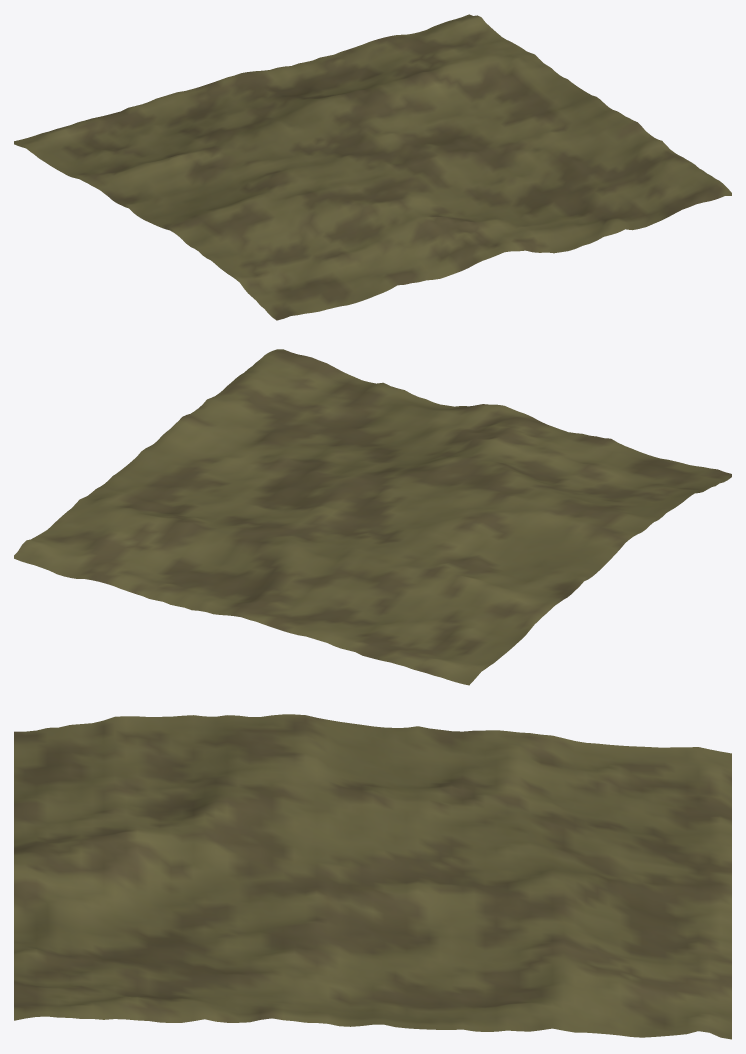
Rendered from land_f_06_08.glb.
3 renders of one model, top to bottom at view 1: azimuth 30°, elevation 25°; view 2: azimuth 150°, elevation 25°; view 3: azimuth 270°, elevation 25°, orthographic. The views are drawn at different scales.
Visible parts, largest first — view 1: land_f_06_08; view 2: land_f_06_08; view 3: land_f_06_08.
Boxes of the visible parts, x1=… form: land_f_06_08: x1=14, y1=14, x2=731, y2=320; land_f_06_08: x1=14, y1=349, x2=731, y2=685; land_f_06_08: x1=14, y1=714, x2=731, y2=1039.
Bounding box in the file's own units: 3840 × 334 × 3840.
